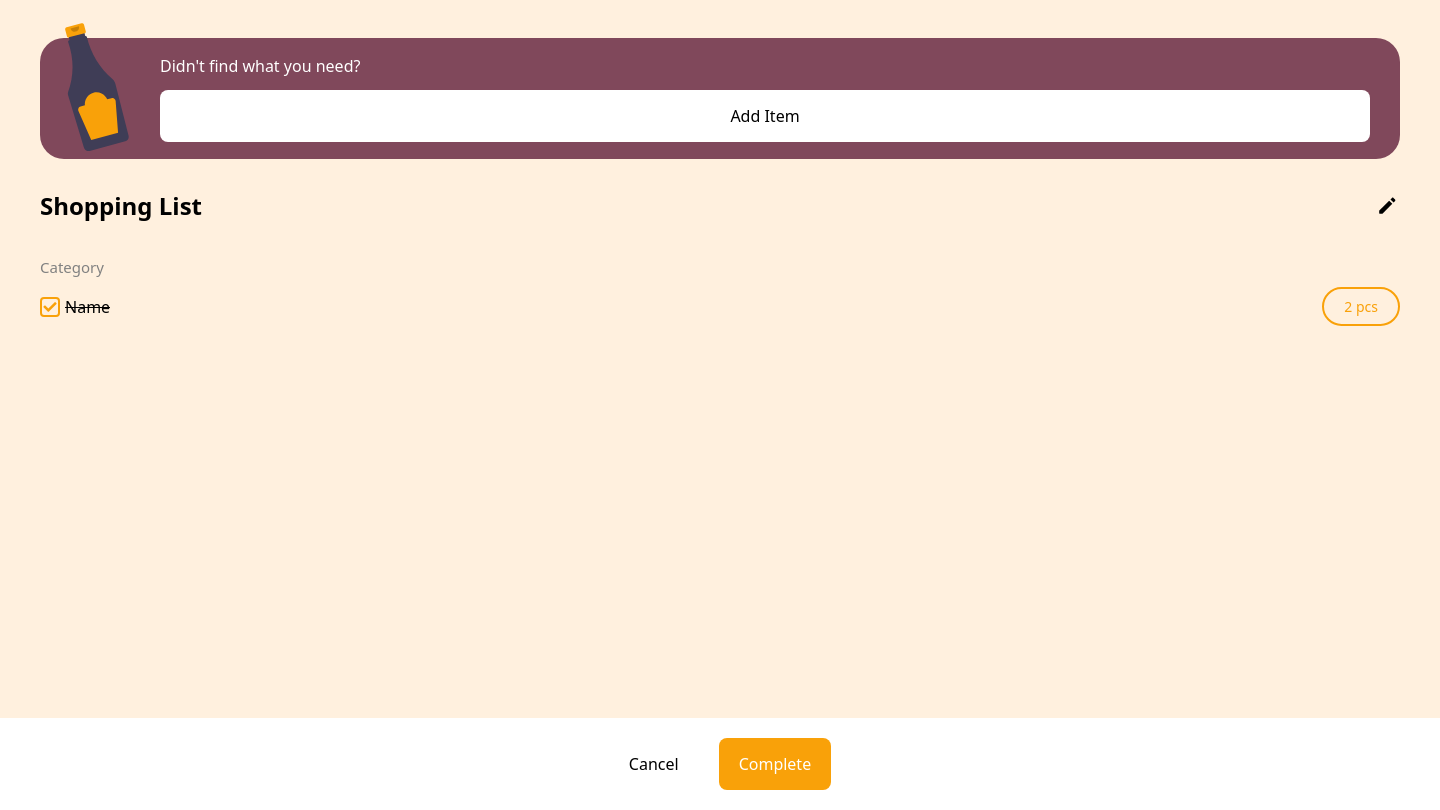
Test case: <ShoppingList /> › Should render a button to toggle the mode and render an input to change the list name
This screenshot has width=1440, height=810.
Click the button with test id "shopping-list__toggle-mode" at [1388, 206], box [1375,193,1400,218]
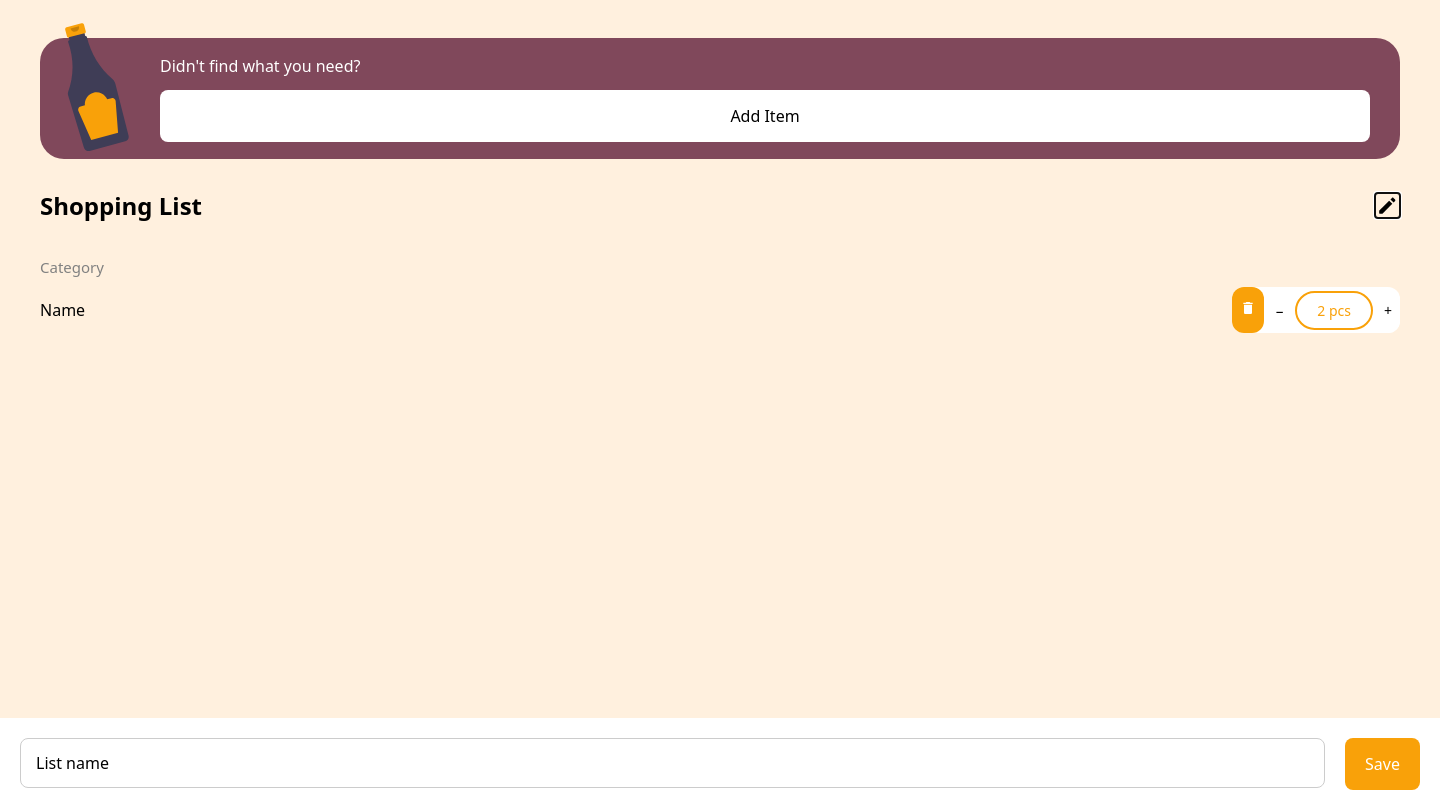
Expected: the field with placeholder "Enter a name" holds "List name", [20,738,1325,788]
Expected: the button "Save" is shown, [1345,738,1420,790]
